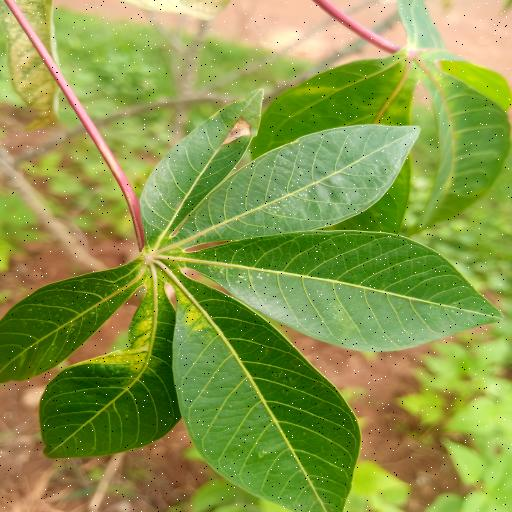Cassava_Mosaic: (8, 90, 501, 512)
